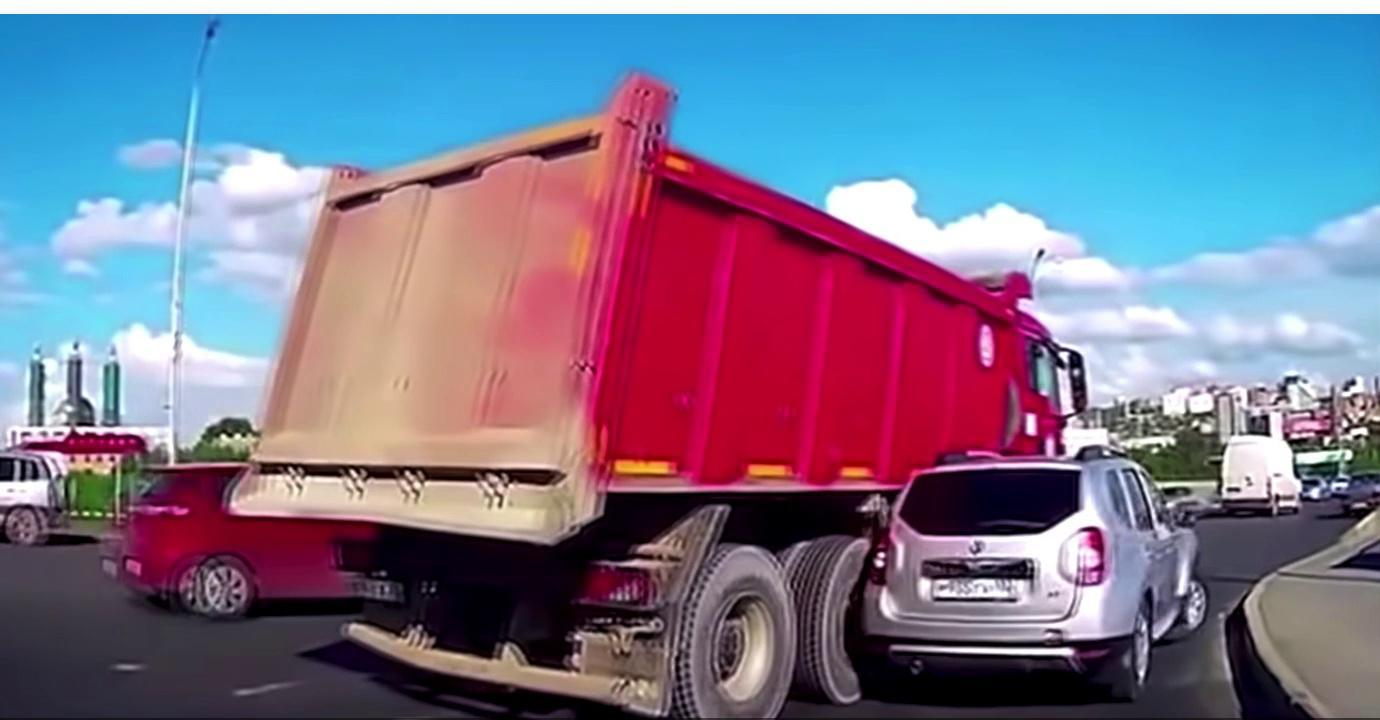car-accident: (262, 93, 1202, 706)
